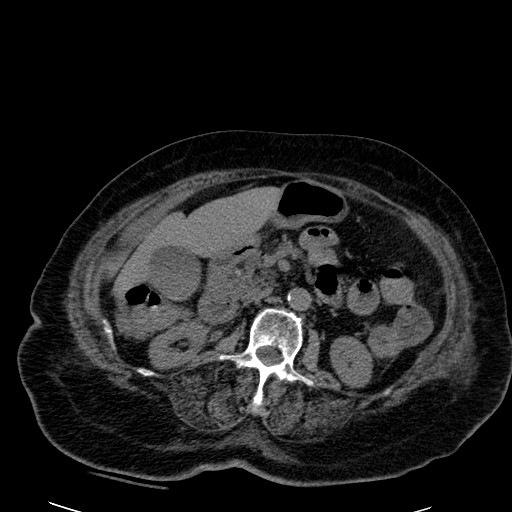vesicula: (147, 243, 203, 304)
